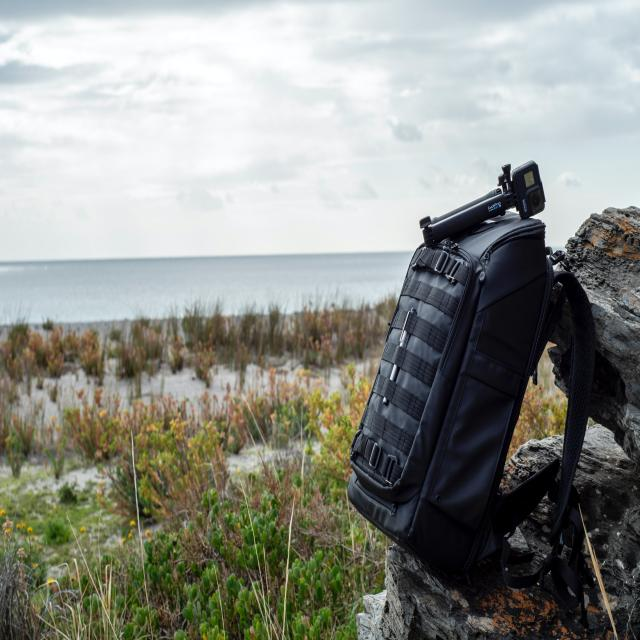backpack: (346, 206, 593, 584)
